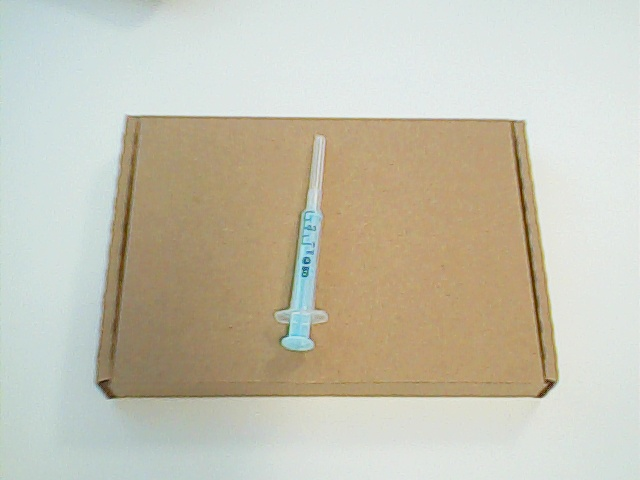syringe: (269, 131, 335, 356)
